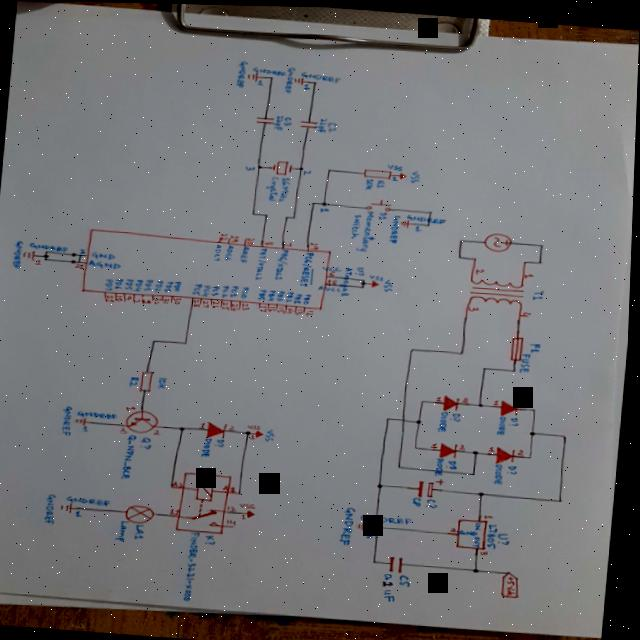capacitor: (420, 475, 448, 497), (392, 553, 409, 571), (298, 119, 318, 128), (255, 115, 275, 124)
crossover: (402, 416, 410, 421)
diode: (207, 419, 231, 439), (498, 443, 519, 463), (441, 439, 461, 457), (503, 397, 522, 415), (444, 392, 463, 410)
ground: (23, 249, 38, 262), (63, 501, 77, 513), (246, 70, 260, 82), (359, 519, 373, 530), (401, 218, 413, 227), (293, 75, 305, 84), (78, 417, 90, 426)
junction: (180, 424, 190, 432), (531, 427, 539, 434), (380, 481, 388, 488), (479, 400, 487, 406), (418, 417, 425, 423), (529, 452, 536, 458), (481, 489, 489, 494), (475, 566, 483, 571), (475, 448, 483, 453), (251, 210, 258, 215), (533, 405, 540, 410), (377, 522, 383, 527), (239, 490, 245, 495), (362, 279, 368, 284), (45, 253, 51, 258), (248, 429, 254, 434), (185, 340, 192, 344), (387, 415, 394, 419), (326, 167, 333, 171), (460, 349, 467, 353), (153, 339, 160, 343), (560, 496, 567, 500), (564, 432, 571, 436), (473, 470, 480, 474), (422, 398, 428, 402), (459, 237, 465, 241), (458, 253, 464, 257), (540, 241, 546, 245), (539, 258, 545, 262), (474, 255, 480, 259), (375, 558, 381, 562), (399, 463, 405, 467), (524, 258, 530, 262), (411, 346, 417, 350), (264, 212, 270, 216), (484, 364, 490, 368), (416, 444, 422, 448), (513, 366, 519, 370), (285, 214, 291, 218), (292, 214, 298, 218), (322, 200, 328, 204), (311, 200, 317, 204), (258, 164, 264, 168), (299, 165, 304, 169), (172, 484, 177, 488), (313, 79, 318, 83), (362, 283, 367, 287), (427, 222, 432, 225), (429, 209, 434, 212), (45, 258, 50, 261), (79, 254, 84, 257), (270, 75, 274, 78), (363, 277, 367, 280), (46, 250, 50, 253), (79, 261, 84, 263)
resistor: (362, 166, 394, 178), (142, 369, 157, 391)
source: (484, 230, 515, 250), (250, 509, 259, 517), (372, 278, 381, 286), (258, 429, 266, 437), (400, 171, 408, 178)
switch: (366, 196, 393, 210)
terminal: (504, 568, 525, 596)
text: (186, 528, 205, 601), (356, 207, 379, 251), (124, 432, 140, 480), (341, 503, 359, 544), (300, 249, 317, 287), (363, 511, 415, 523), (274, 247, 291, 280), (383, 570, 401, 601), (300, 69, 342, 82), (69, 495, 115, 506), (339, 265, 355, 296), (255, 247, 270, 280), (62, 404, 77, 436), (46, 493, 61, 525), (407, 212, 448, 223), (265, 174, 281, 201), (29, 242, 71, 252), (80, 410, 121, 420), (251, 64, 288, 75), (489, 521, 503, 549), (390, 212, 403, 242), (279, 175, 293, 202), (13, 240, 26, 269), (235, 59, 248, 87), (118, 519, 133, 542), (202, 435, 217, 458), (90, 259, 123, 269), (284, 65, 296, 92), (352, 212, 364, 238), (521, 350, 534, 371), (497, 461, 508, 484), (499, 413, 511, 434), (440, 409, 451, 431), (509, 574, 521, 594), (92, 251, 118, 260), (436, 456, 449, 474), (240, 244, 252, 263), (267, 426, 281, 442), (272, 113, 285, 130), (409, 168, 423, 183), (401, 572, 416, 586), (499, 530, 515, 543), (315, 116, 328, 132), (214, 242, 225, 260), (532, 286, 547, 299), (158, 375, 171, 390), (138, 523, 149, 540), (319, 283, 342, 291), (142, 436, 156, 449), (384, 276, 396, 291), (427, 496, 442, 507), (226, 244, 236, 260), (364, 176, 376, 189), (207, 533, 220, 545), (267, 288, 279, 301), (230, 284, 242, 297), (115, 277, 127, 290), (134, 278, 145, 292), (126, 277, 137, 291), (105, 277, 116, 291), (130, 375, 142, 387), (258, 288, 270, 300), (531, 340, 544, 351), (241, 285, 252, 298), (202, 283, 213, 296), (193, 282, 204, 295), (165, 280, 176, 293), (145, 278, 156, 291), (462, 527, 482, 534), (387, 162, 404, 170), (241, 501, 260, 508), (449, 457, 461, 468), (511, 413, 523, 424), (322, 264, 344, 270), (452, 410, 465, 420), (414, 494, 425, 505), (327, 120, 338, 131), (277, 289, 288, 300), (225, 483, 240, 491), (509, 463, 521, 473), (475, 534, 485, 546), (355, 265, 367, 275), (222, 284, 231, 297), (369, 273, 385, 280), (304, 292, 313, 304), (287, 290, 296, 302), (156, 280, 165, 292), (216, 437, 228, 446), (174, 480, 189, 487), (283, 115, 293, 125), (212, 285, 222, 295), (376, 178, 387, 187), (310, 240, 321, 249), (319, 205, 331, 213), (327, 277, 340, 284), (379, 210, 389, 219), (231, 233, 241, 242), (295, 292, 304, 302), (175, 280, 184, 290), (174, 296, 184, 305), (470, 303, 482, 310), (249, 423, 263, 429), (243, 301, 252, 310), (415, 223, 425, 231), (76, 262, 86, 270), (107, 294, 117, 302), (522, 308, 533, 315), (229, 518, 240, 525), (230, 504, 241, 511), (128, 405, 139, 412), (477, 520, 486, 528), (248, 235, 256, 244), (221, 232, 229, 241), (154, 296, 163, 304), (214, 299, 222, 308), (173, 507, 183, 514), (477, 266, 487, 273), (526, 270, 536, 277), (369, 529, 377, 537), (233, 302, 241, 310), (224, 301, 232, 309), (194, 298, 202, 306), (201, 421, 209, 429), (155, 428, 164, 435), (487, 512, 497, 518), (246, 164, 256, 170), (520, 447, 528, 454), (122, 426, 130, 433), (204, 300, 212, 307), (279, 306, 287, 313), (307, 309, 316, 315), (303, 168, 312, 174), (284, 240, 294, 245), (266, 240, 276, 245), (144, 299, 154, 304), (80, 248, 88, 254), (464, 395, 472, 401), (84, 425, 92, 431), (296, 308, 304, 314), (495, 397, 503, 403), (437, 394, 445, 400), (433, 440, 441, 446), (461, 442, 469, 448), (490, 444, 498, 450), (523, 399, 531, 405), (78, 510, 86, 516), (303, 82, 311, 88), (257, 78, 265, 84), (36, 259, 44, 265), (164, 297, 172, 303), (134, 298, 142, 304), (117, 295, 125, 301), (288, 306, 296, 312), (270, 305, 278, 311), (261, 304, 269, 310), (231, 424, 239, 430), (483, 548, 492, 553), (453, 525, 461, 530), (126, 295, 134, 300), (331, 269, 337, 275), (252, 434, 259, 439), (392, 175, 400, 179), (244, 513, 250, 518)
transformer: (467, 275, 527, 309)
transistor: (127, 408, 161, 433)
